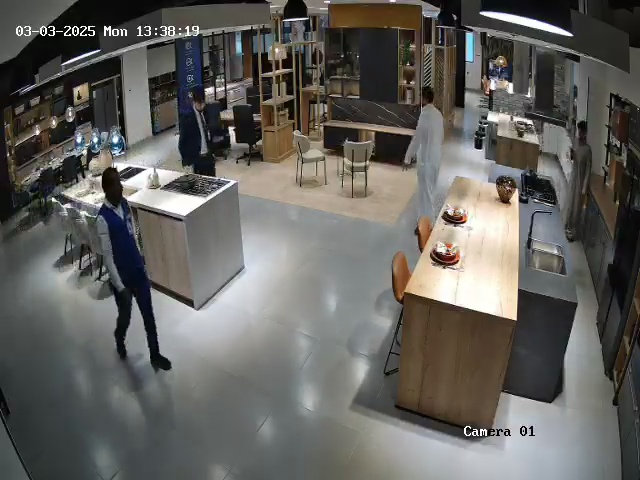employee: (95, 166, 172, 372), (178, 85, 217, 177)
male: (402, 87, 444, 227), (568, 110, 597, 239)
